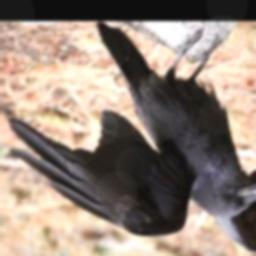Crow: (4, 25, 256, 255)
